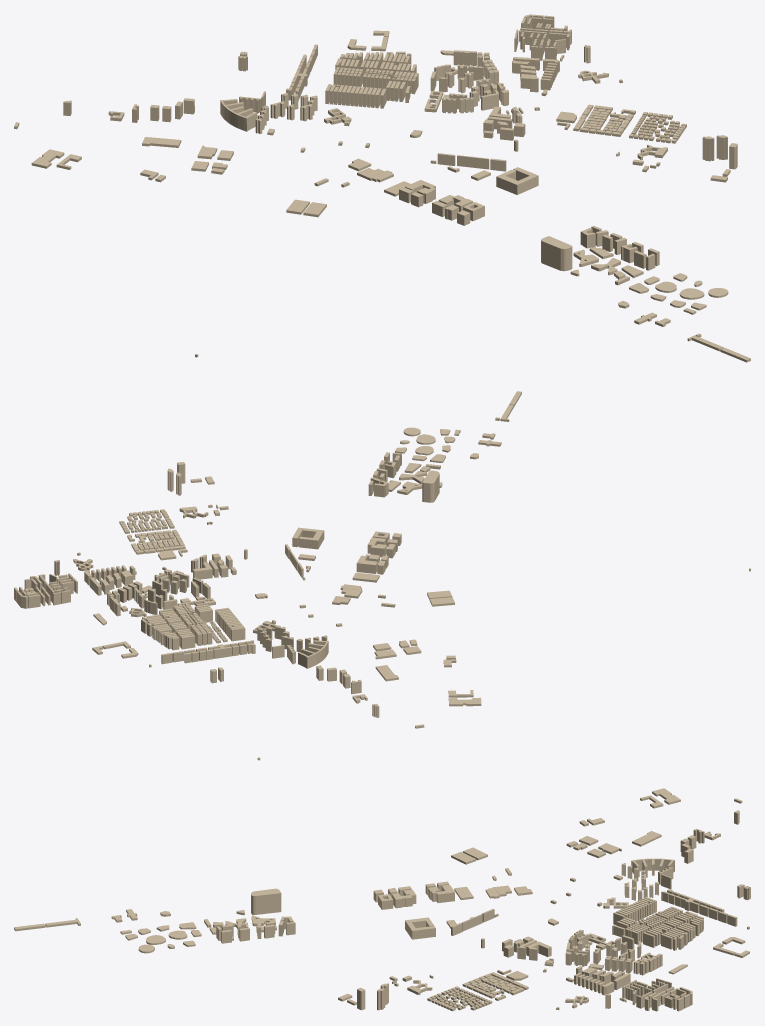
File: overview-estimated--5_0.glb
3 renders of one model, top to bottom at view 1: azimuth 30°, elevation 25°; view 2: azimuth 150°, elevation 25°; view 3: azimuth 270°, elevation 25°, orthographic. The views are drawn at different scales.
Bounding box in the file's own units: 3172 × 112 × 3917.
